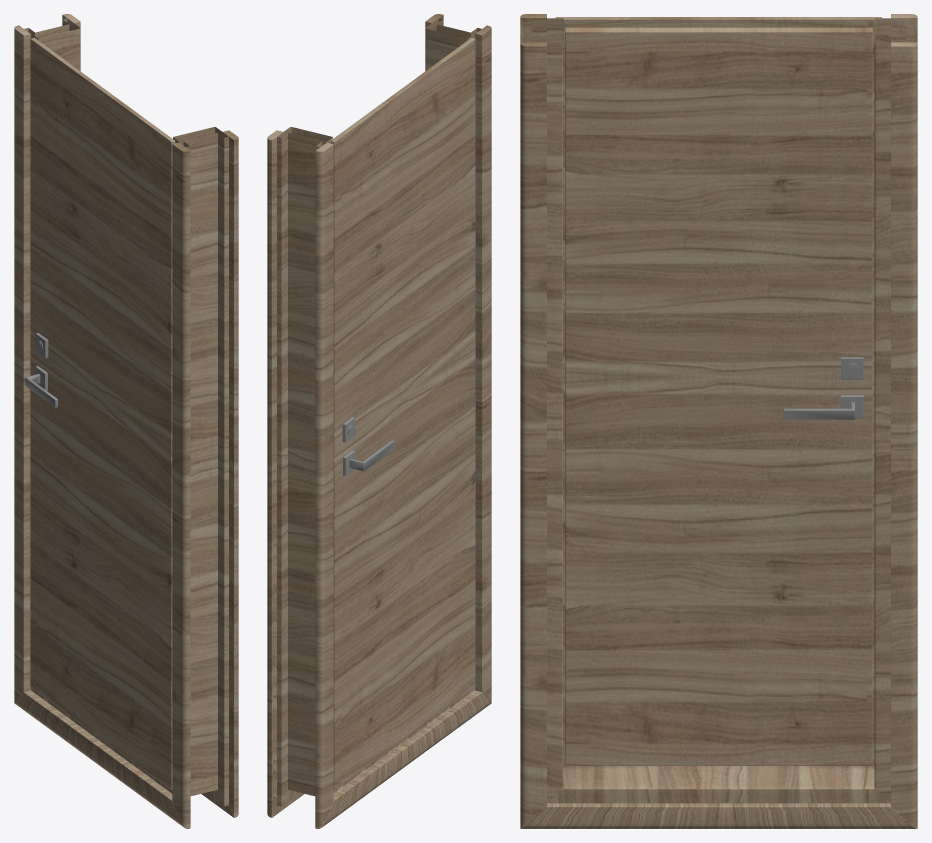
Rendered from door.FBX.
3 views of the same model, side by side, from view 1: azimuth 30°, elevation 25°; view 2: azimuth 150°, elevation 25°; view 3: azimuth 270°, elevation 25° (orthographic). The views are drawn at different scales.
Parts seen in each view (by area): view 1: Group006, door frame, Line002; view 2: Group006, door frame, Line002; view 3: Group006, door frame, Line001.
Part boxes in pixels (x1,y1,x2,y2): Group006: [30, 37, 175, 790]; door frame: [14, 14, 238, 828]; Line002: [24, 333, 57, 407]; Group006: [330, 37, 475, 790]; door frame: [267, 14, 491, 828]; Line002: [342, 417, 394, 475]; Group006: [555, 17, 882, 765]; door frame: [520, 14, 917, 828]; Line001: [783, 357, 863, 419].
Size of the model in its own units: 252 by 2271 by 1042.
2 materials, 1 textured.
